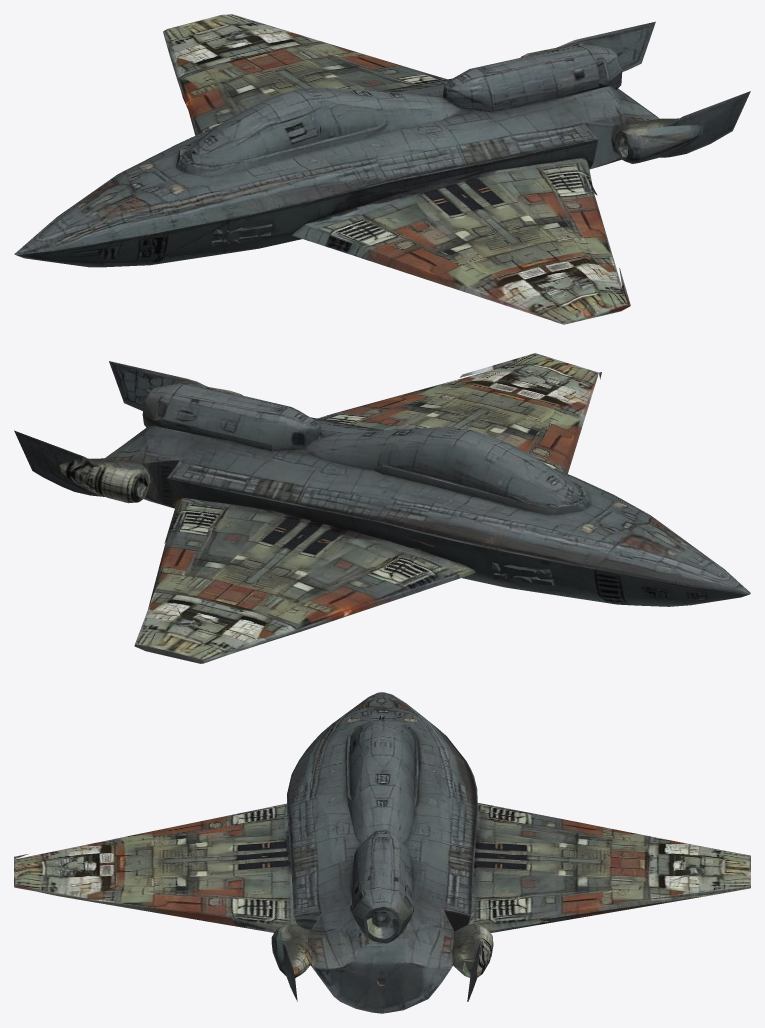
The model's file is nation-z-scout.glb.
The picture shows the model from 3 angles, top to bottom: view 1: azimuth 30°, elevation 25°; view 2: azimuth 150°, elevation 25°; view 3: azimuth 270°, elevation 25°; orthographic projection. The views are drawn at different scales.
Bounding box in the file's own units: 1.9 × 0.3348 × 1.9.
Materials: 1 (1 with a texture image).
